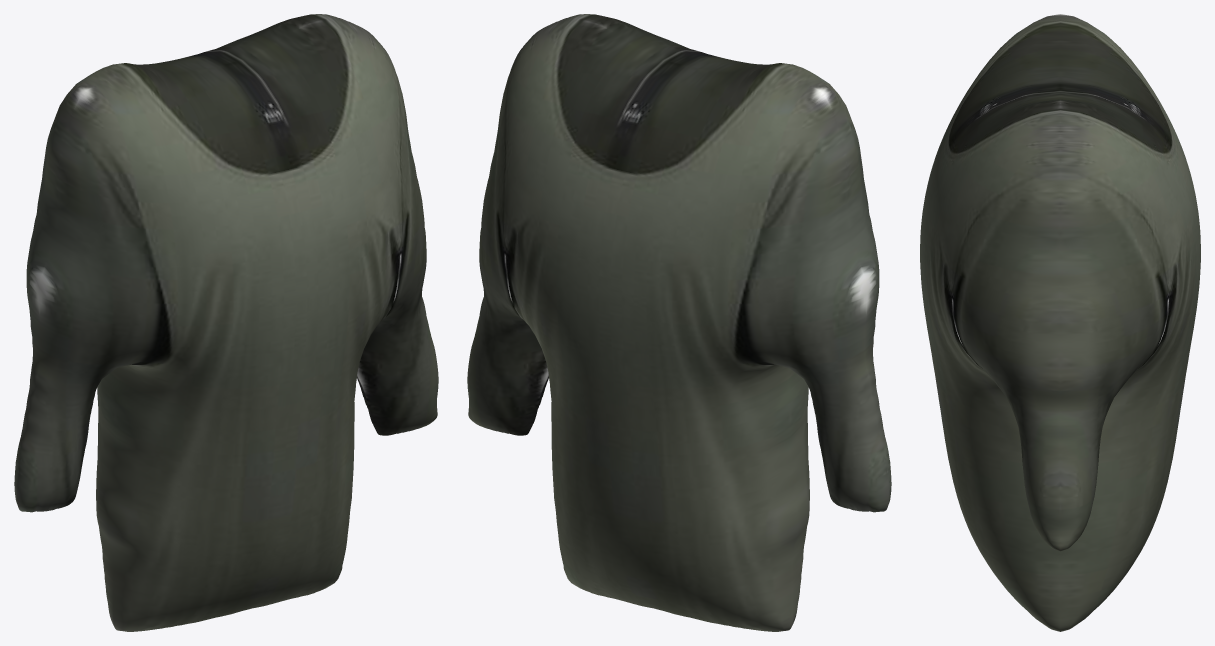
File: A0C21D00M-N11@10=cloth_front.glb
3 renders of one model, left to right at view 1: azimuth 30°, elevation 25°; view 2: azimuth 150°, elevation 25°; view 3: azimuth 270°, elevation 25°, orthographic. The views are drawn at different scales.
Size of the model in its own units: 4.63 by 5.95 by 2.91.
1 material, 1 textured.
